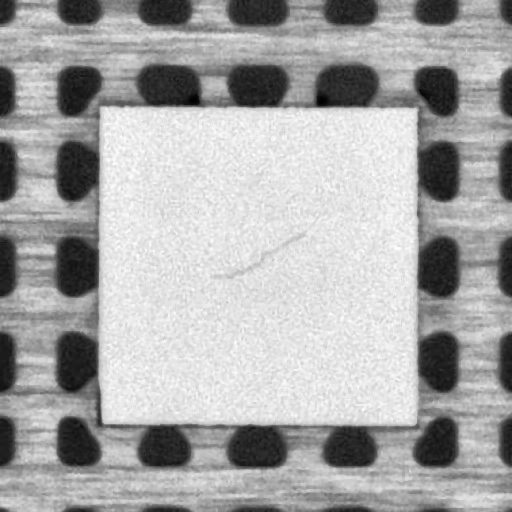DIE_CRACK: (206, 210, 318, 280)
